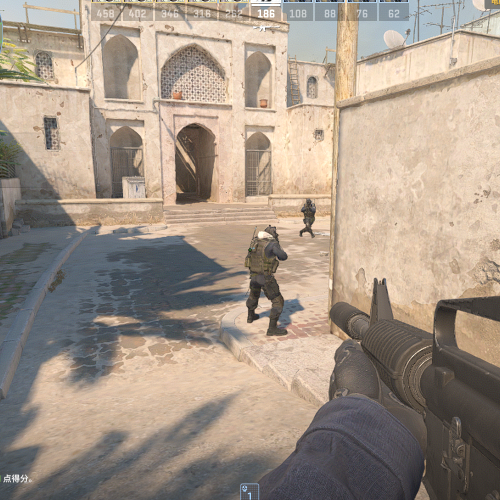ct_body: (245, 225, 288, 337), (299, 198, 317, 238)
ct_head: (264, 225, 280, 241), (305, 198, 312, 207)
